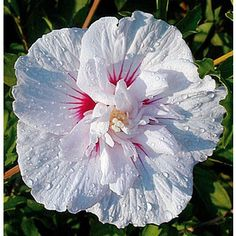Hibiscus: (17, 20, 227, 230)
